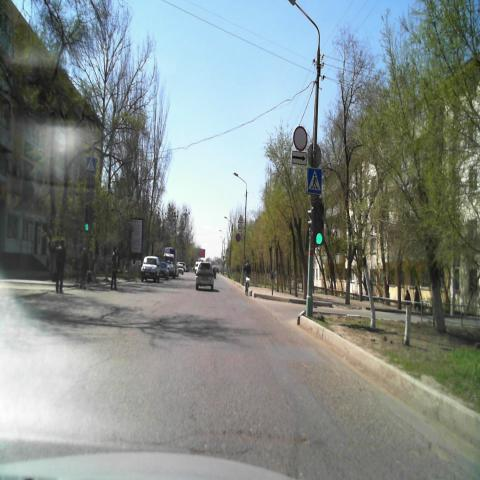3_2: (293, 126, 307, 151)
8_3_1: (291, 150, 308, 166)
